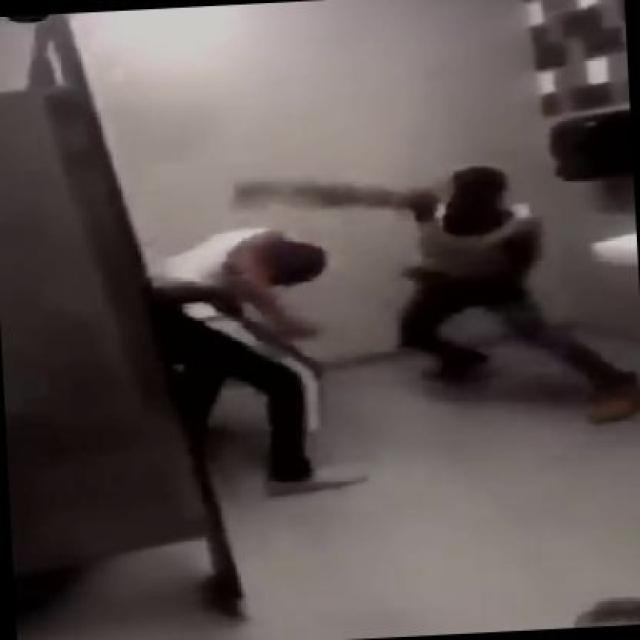fight: (132, 132, 640, 492)
